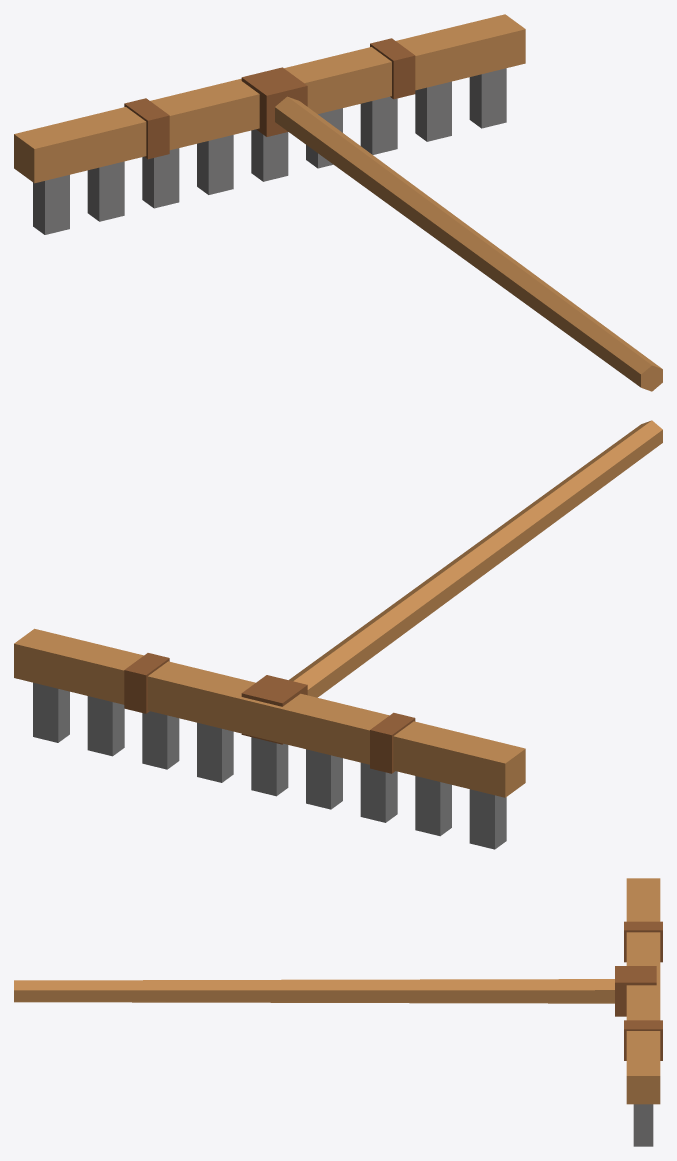
File: onami.glb
3 renders of one model, top to bottom at view 1: azimuth 30°, elevation 25°; view 2: azimuth 150°, elevation 25°; view 3: azimuth 270°, elevation 25°, orthographic. The views are drawn at different scales.
Visible parts, largest first — view 1: Head, Handle, tine_1, tine_8, tine_6, tine_3, tine_0, tine_7, tine_2, tine_4, tine_5; view 2: Head, Handle, tine_0, tine_7, tine_6, tine_4, tine_1, tine_8, tine_3, tine_5, tine_2; view 3: Handle, Head, tine_8.
Boxes of the visible parts, bbox=[...] form: Head: bbox=[14, 14, 525, 183]; Handle: bbox=[275, 96, 662, 391]; tine_1: bbox=[87, 161, 124, 221]; tine_8: bbox=[469, 68, 506, 128]; tine_6: bbox=[360, 96, 397, 154]; tine_3: bbox=[197, 135, 233, 194]; tine_0: bbox=[33, 175, 69, 234]; tine_7: bbox=[415, 81, 451, 141]; tine_2: bbox=[142, 148, 179, 208]; tine_4: bbox=[251, 129, 288, 181]; tine_5: bbox=[306, 108, 342, 168]; Head: bbox=[14, 628, 525, 797]; Handle: bbox=[289, 420, 662, 697]; tine_0: bbox=[469, 789, 506, 849]; tine_7: bbox=[87, 696, 124, 756]; tine_6: bbox=[142, 711, 179, 769]; tine_4: bbox=[251, 737, 288, 796]; tine_1: bbox=[415, 776, 451, 836]; tine_8: bbox=[33, 682, 69, 742]; tine_3: bbox=[306, 749, 342, 809]; tine_5: bbox=[197, 722, 233, 782]; tine_2: bbox=[360, 762, 397, 822]; Handle: bbox=[14, 979, 614, 1003]; Head: bbox=[615, 878, 662, 1104]; tine_8: bbox=[633, 1104, 653, 1146].
Bounding box in the file's own units: 36 × 6.75 × 50.
